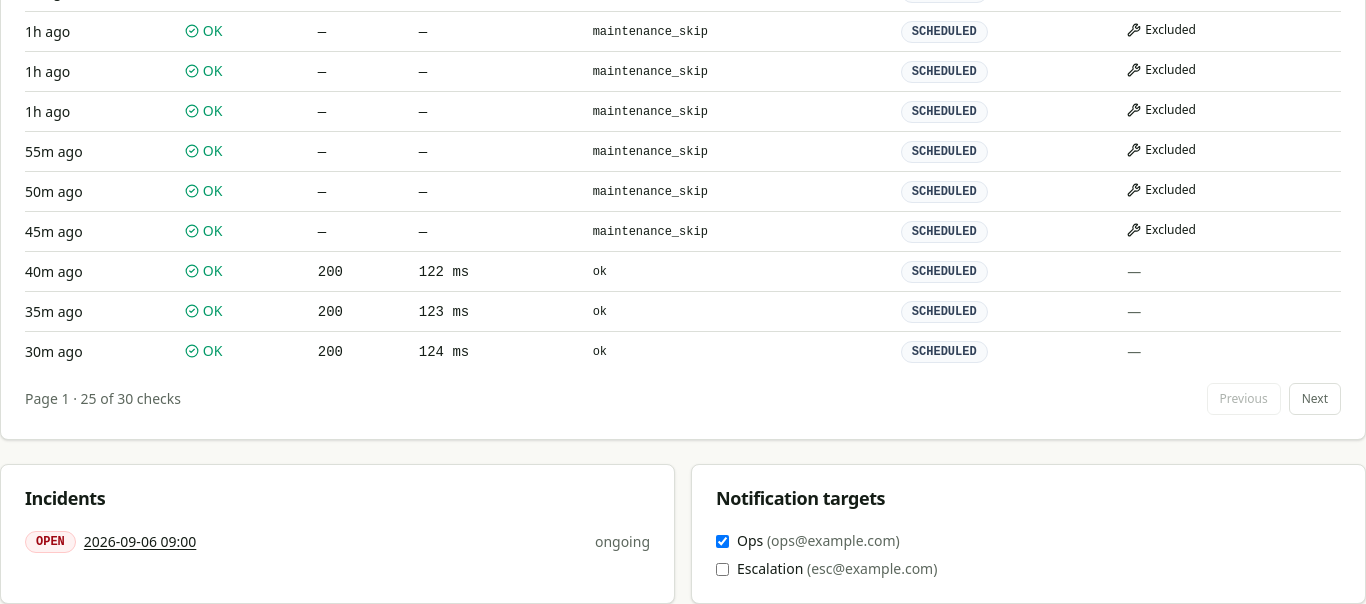
Test case: MonitorDetailPage (PRD §27.5) › renders the seven-column checks table with manual and maintenance flags, paginated
(page scrolled)
Expected: the text "Excluded" is shown 6 times, [1127,22,1196,38]; [1127,62,1196,78]; [1127,102,1196,118]; [1127,142,1196,158]; [1127,182,1196,198]; [1127,222,1196,238]
Expected: the text "Page 1 · 25 of 30 checks" is shown, [25,389,181,409]
Click the button "Next".
click(1315, 399)  # box [1289,383,1341,415]
(page scrolled)
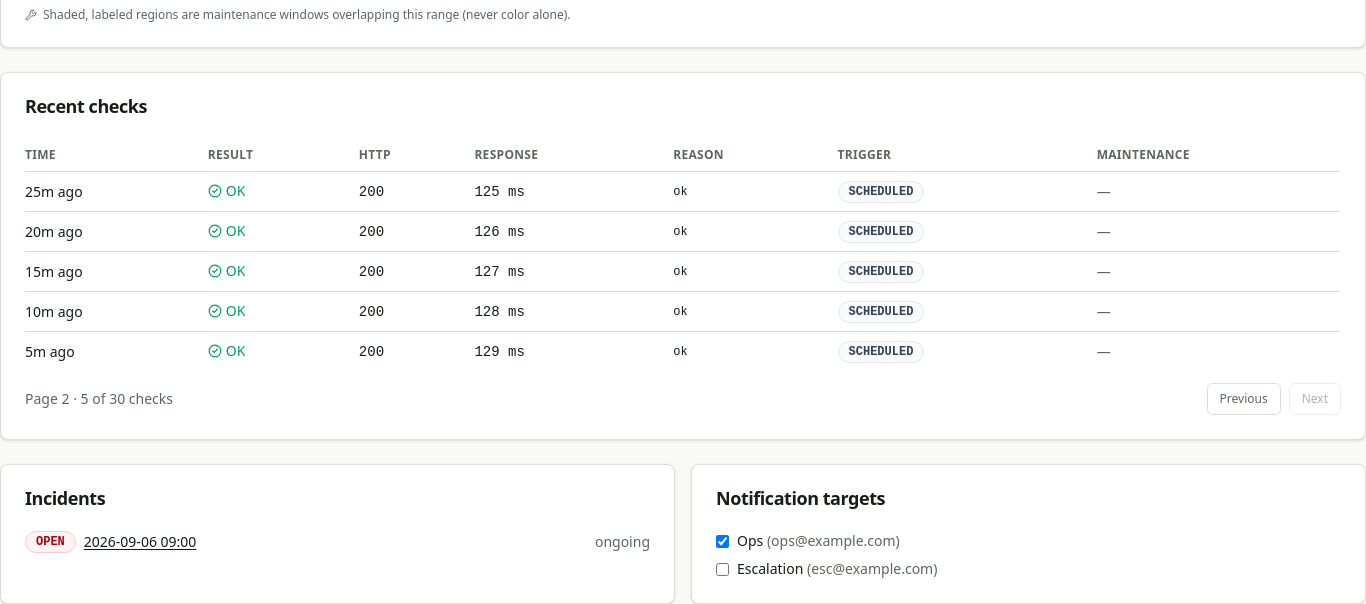
Expected: the text "Page 2 · 5 of 30 checks" is shown, [25,389,173,409]
Click the button "Previous".
click(1244, 399)  # box [1206,383,1281,415]
(page scrolled)
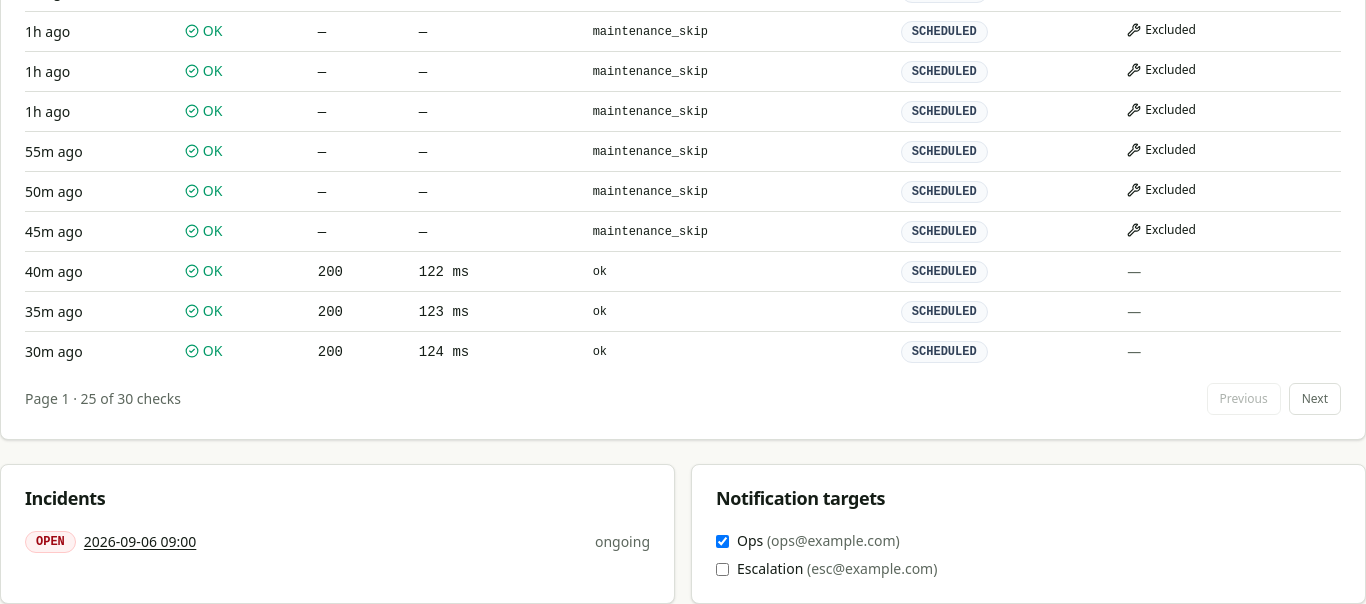
Expected: the text "Page 1 · 25 of 30 checks" is shown, [25,389,181,409]
